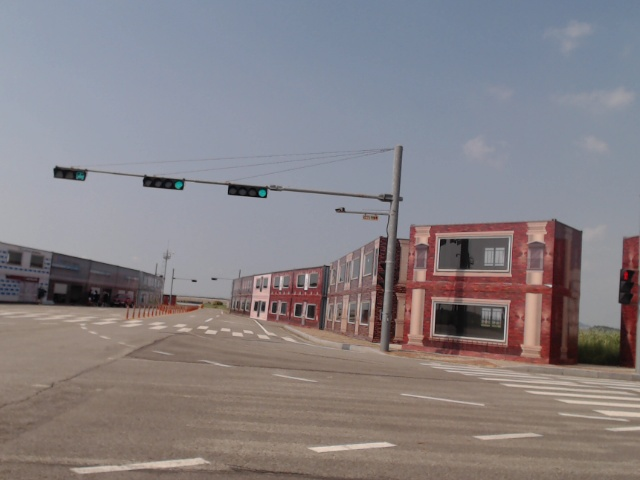straight_green_4: (227, 181, 267, 199), (143, 177, 184, 191)
